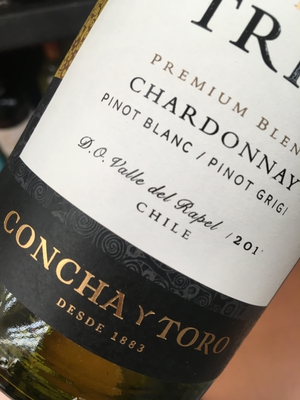trio chardonnay: (4, 1, 300, 385)
